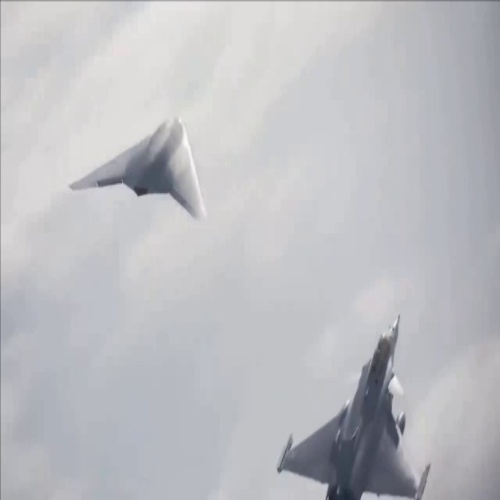uav832: (66, 113, 210, 222)
